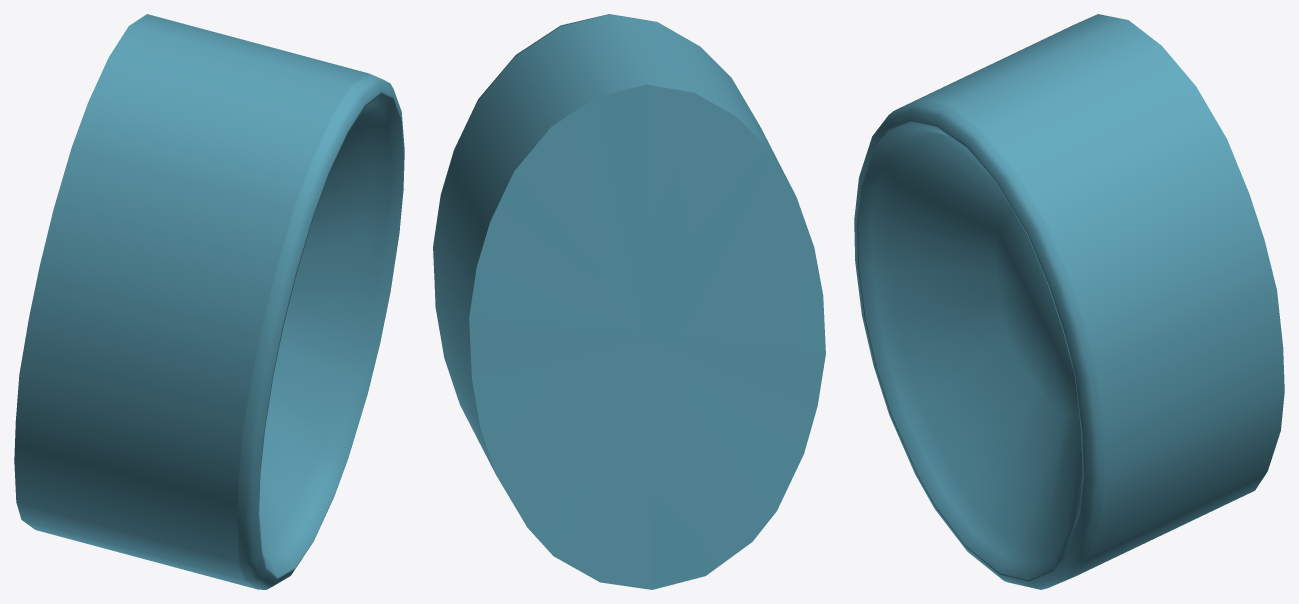
The model's file is BR3_8shapes_Oval_Classic_Metal.001 3.glb.
The picture shows the model from 3 angles, left to right: view 1: azimuth 30°, elevation 25°; view 2: azimuth 150°, elevation 25°; view 3: azimuth 270°, elevation 25°; orthographic projection. The views are drawn at different scales.
Parts seen in each view (by area): view 1: BR3_8shapes_Oval_Classic_Metal.001; view 2: BR3_8shapes_Oval_Classic_Metal.001; view 3: BR3_8shapes_Oval_Classic_Metal.001.
Boxes of the visible parts, left/top/right/bottom form: BR3_8shapes_Oval_Classic_Metal.001: left=14, top=14, right=404, bottom=589; BR3_8shapes_Oval_Classic_Metal.001: left=433, top=14, right=825, bottom=589; BR3_8shapes_Oval_Classic_Metal.001: left=854, top=14, right=1284, bottom=589.
Bounding box in the file's own units: 0.537 × 0.683 × 0.5149.
